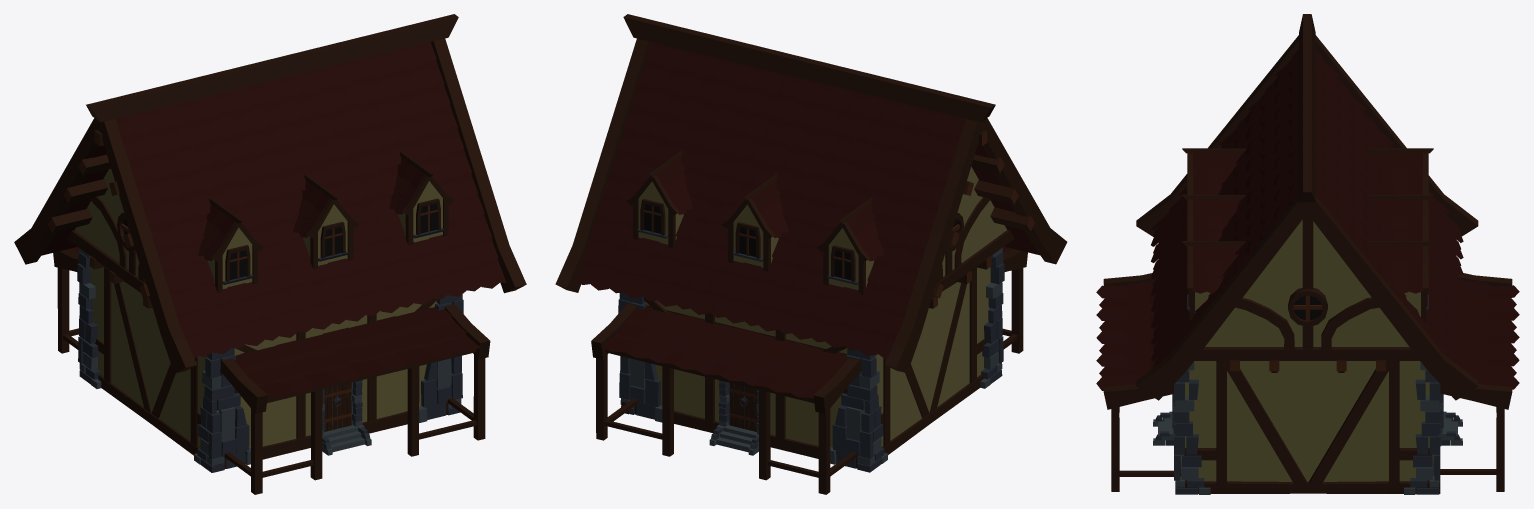
File: Inn.obj
The picture shows the model from 3 angles, left to right: view 1: azimuth 30°, elevation 25°; view 2: azimuth 150°, elevation 25°; view 3: azimuth 270°, elevation 25°; orthographic projection.
Visible parts, largest first — view 1: Inn; view 2: Inn; view 3: Inn.
Boxes of the visible parts, box(x1,y1,x2,y2) form: Inn: box(14, 14, 526, 494); Inn: box(555, 14, 1067, 494); Inn: box(1096, 14, 1519, 494).
Size of the model in its own units: 1.15 by 1 by 1.15.
